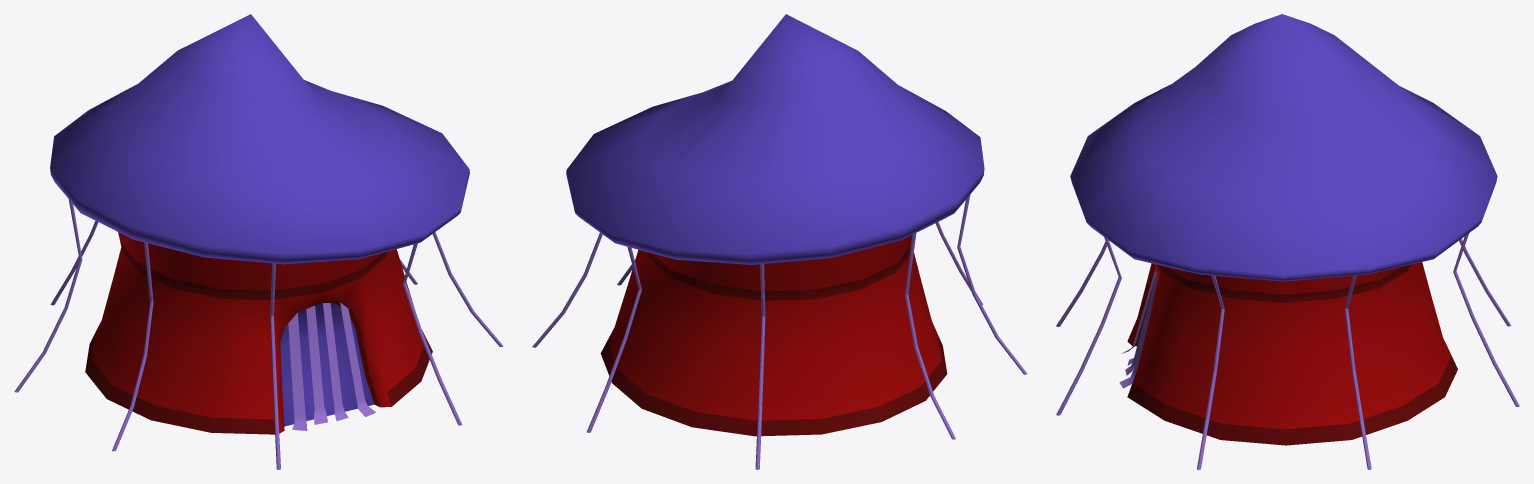
Rendered from Tent.fbx.
The picture shows the model from 3 angles, left to right: view 1: azimuth 30°, elevation 25°; view 2: azimuth 150°, elevation 25°; view 3: azimuth 270°, elevation 25°; orthographic projection.
Visible parts, largest first — view 1: Tent; view 2: Tent; view 3: Tent.
Boxes of the visible parts, x1,y1,x2,y2 form: Tent: (14,14,503,469); Tent: (532,14,1027,469); Tent: (1056,14,1519,469).
Size of the model in its own units: 15.59 by 12.7 by 15.11.
